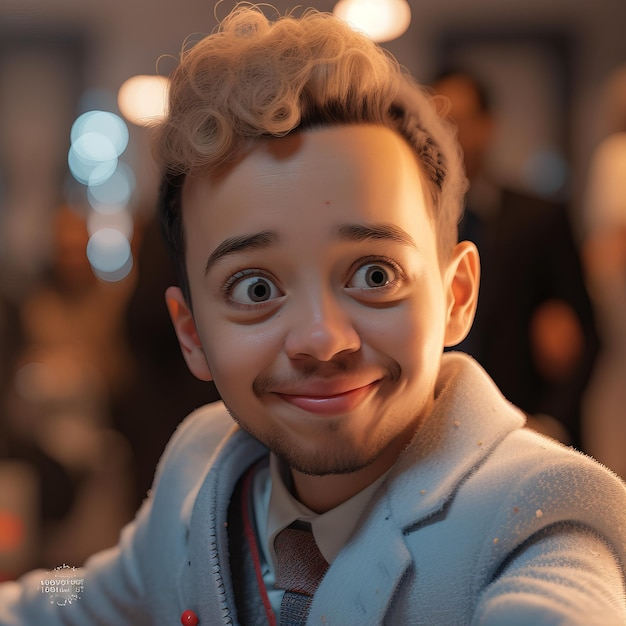young: (161, 46, 463, 461)
